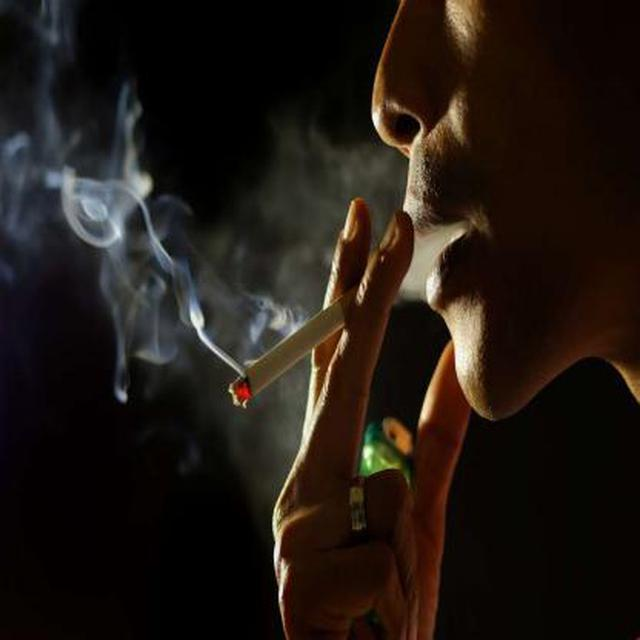Cigarette: (216, 306, 376, 410)
